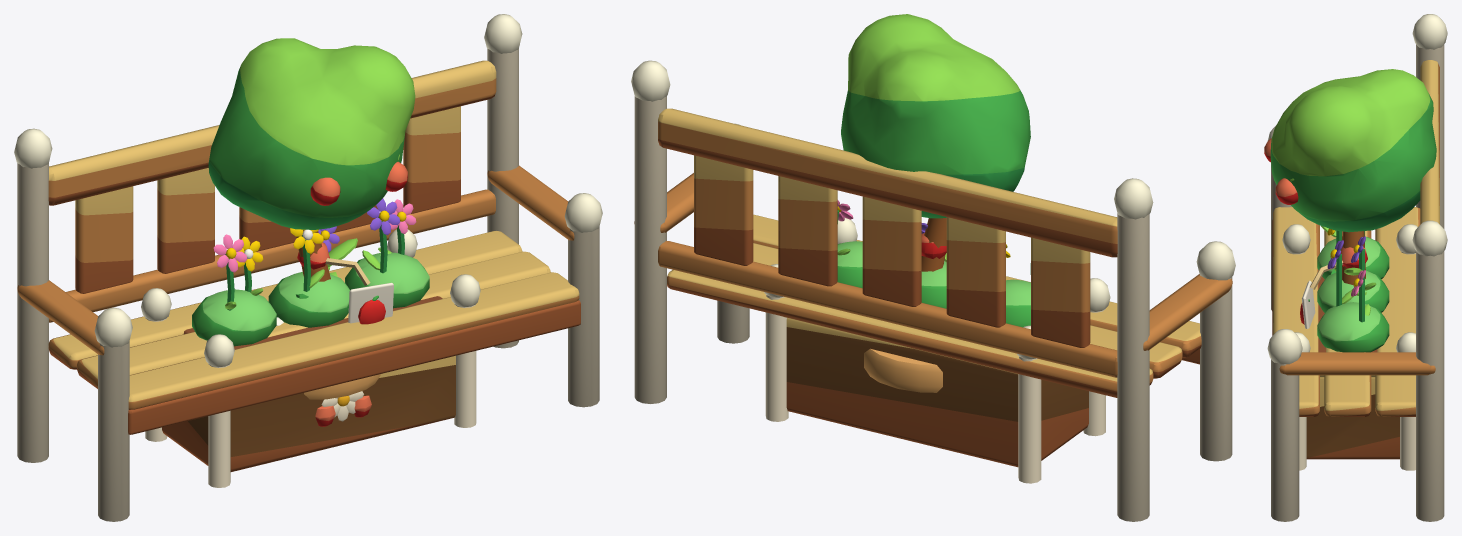
Rendered from items_rooftop-garden.glb.
The picture shows the model from 3 angles, left to right: view 1: azimuth 30°, elevation 25°; view 2: azimuth 150°, elevation 25°; view 3: azimuth 270°, elevation 25°; orthographic projection. The views are drawn at different scales.
Parts seen in each view (by area): view 1: gar-bench, gar-planter, gar-applesapling; view 2: gar-bench, gar-planter, gar-applesapling; view 3: gar-bench, gar-applesapling, gar-planter, gar-rosebush.
Boxes of the visible parts, <box> form: gar-bench: <box>14,14,602,521</box>; gar-planter: <box>141,198,480,487</box>; gar-applesapling: <box>208,38,415,399</box>; gar-bench: <box>631,60,1235,521</box>; gar-planter: <box>764,200,1110,483</box>; gar-applesapling: <box>841,14,1030,392</box>; gar-bench: <box>1267,14,1447,521</box>; gar-applesapling: <box>1264,69,1436,328</box>; gar-planter: <box>1282,224,1417,470</box>; gar-rosebush: <box>1331,247,1367,295</box>.
Size of the model in its own units: 1.84 by 1.31 by 0.6457.
